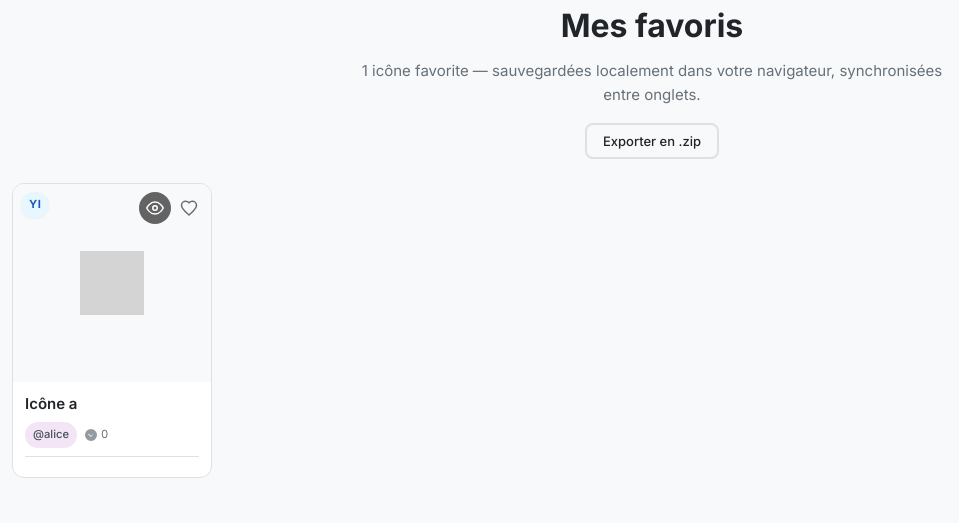
FavoritesPage › affiche une erreur quand l’export échoue
Click the button named "Télécharger" at (652, 141), box [585,123,719,159]
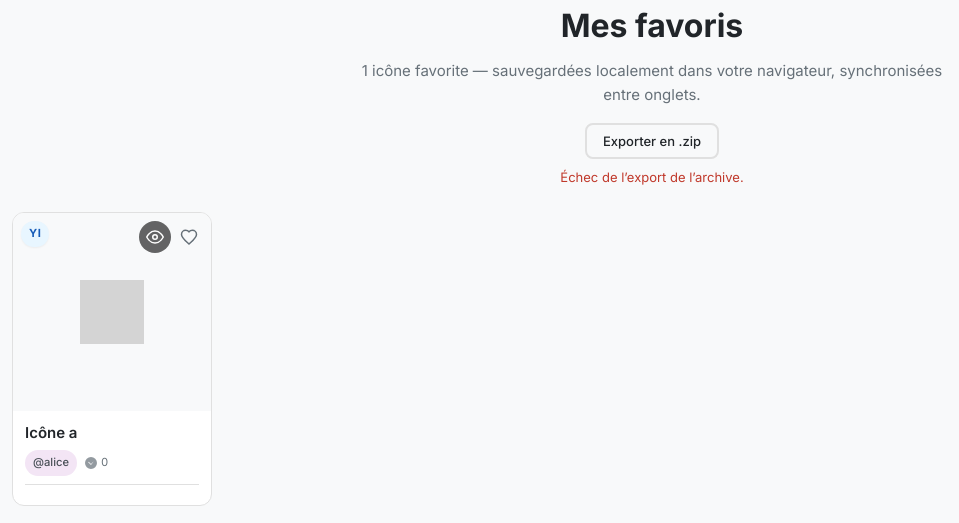
Expected: the message shows "Échec de l’export de l’archive", [560,169,744,185]
